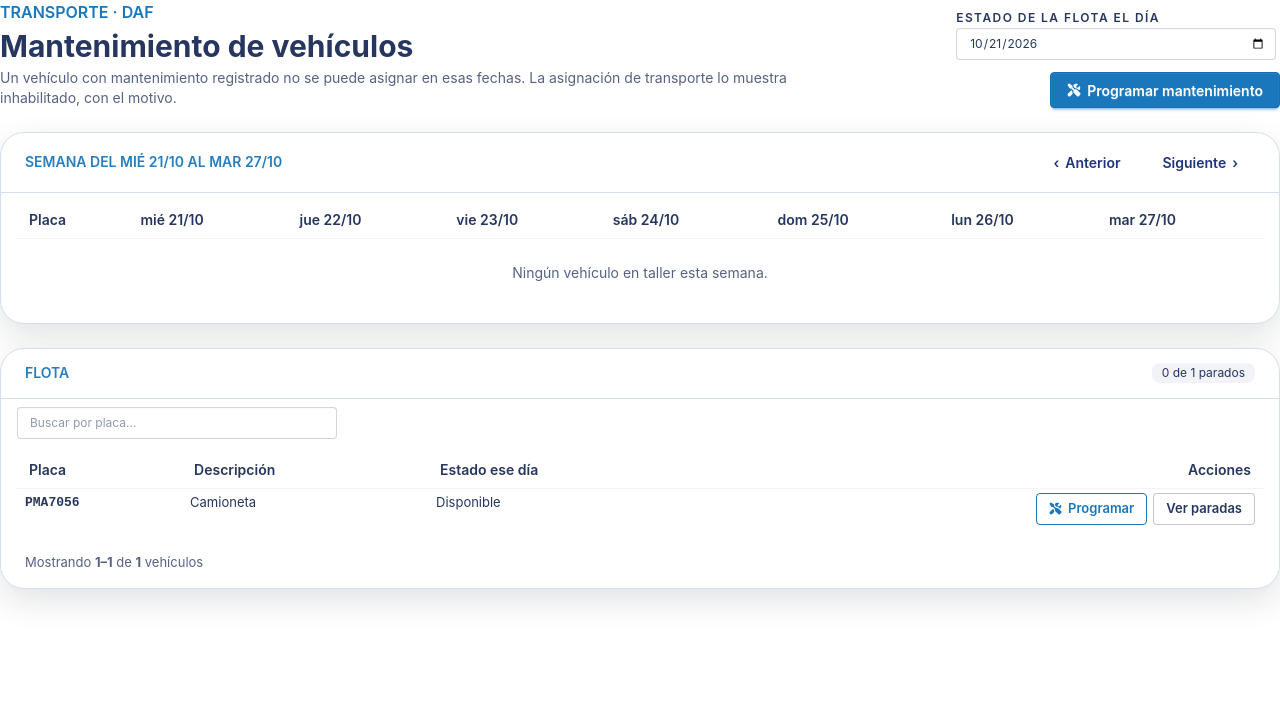
Test: Cajón estándar · Paradas → Registrar parada › «Registrar parada» reemplaza al cajón de paradas: queda un solo diálogo
Click the button "Ver paradas".
click(1204, 509)  # box top-left (1153, 493), bottom-right (1255, 525)
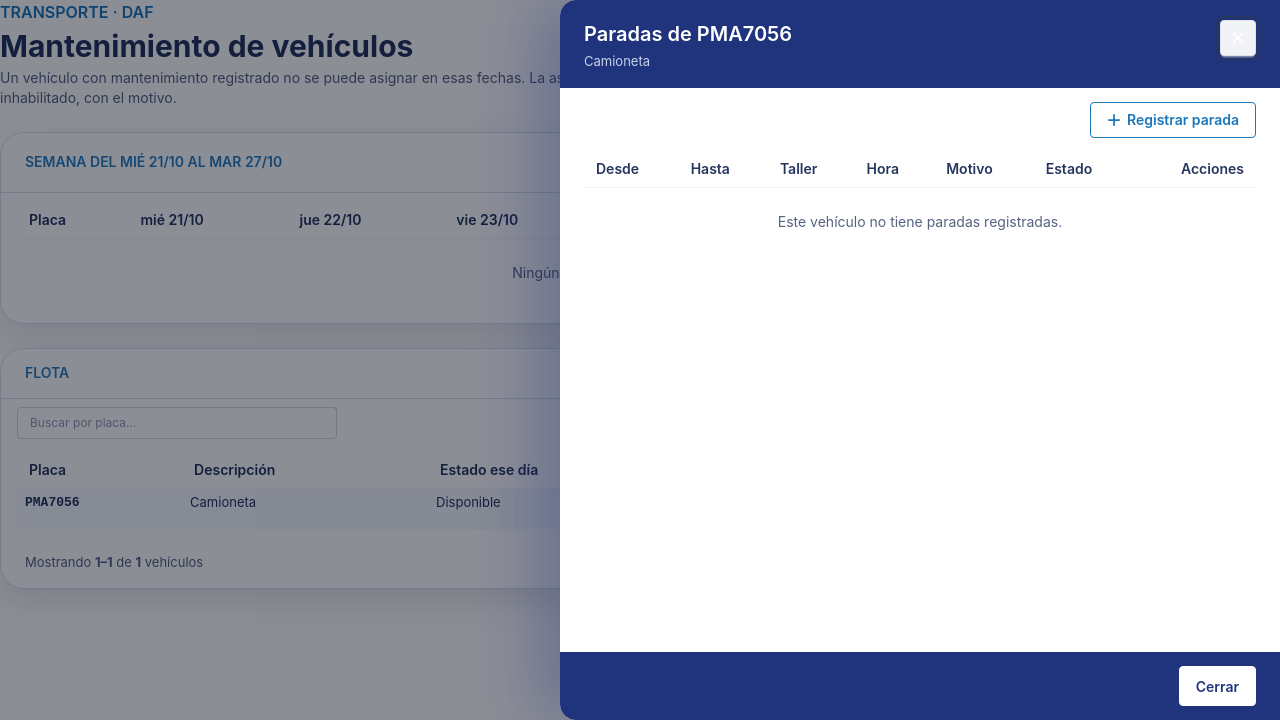
Click the button "Registrar parada".
click(1173, 120)  # box top-left (1090, 102), bottom-right (1256, 138)
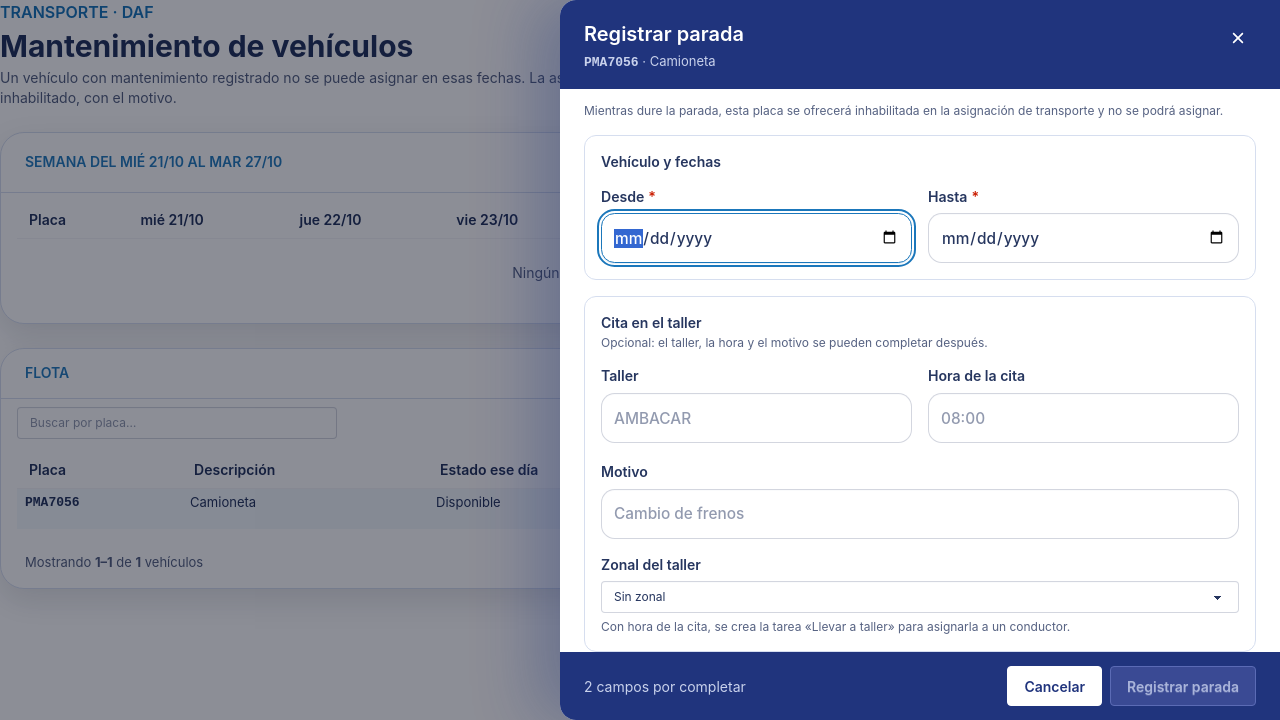
Now the number of dialogs is 1, box top-left (560, 0), bottom-right (1279, 719)
Now the heading "Paradas de PMA7056" is gone
